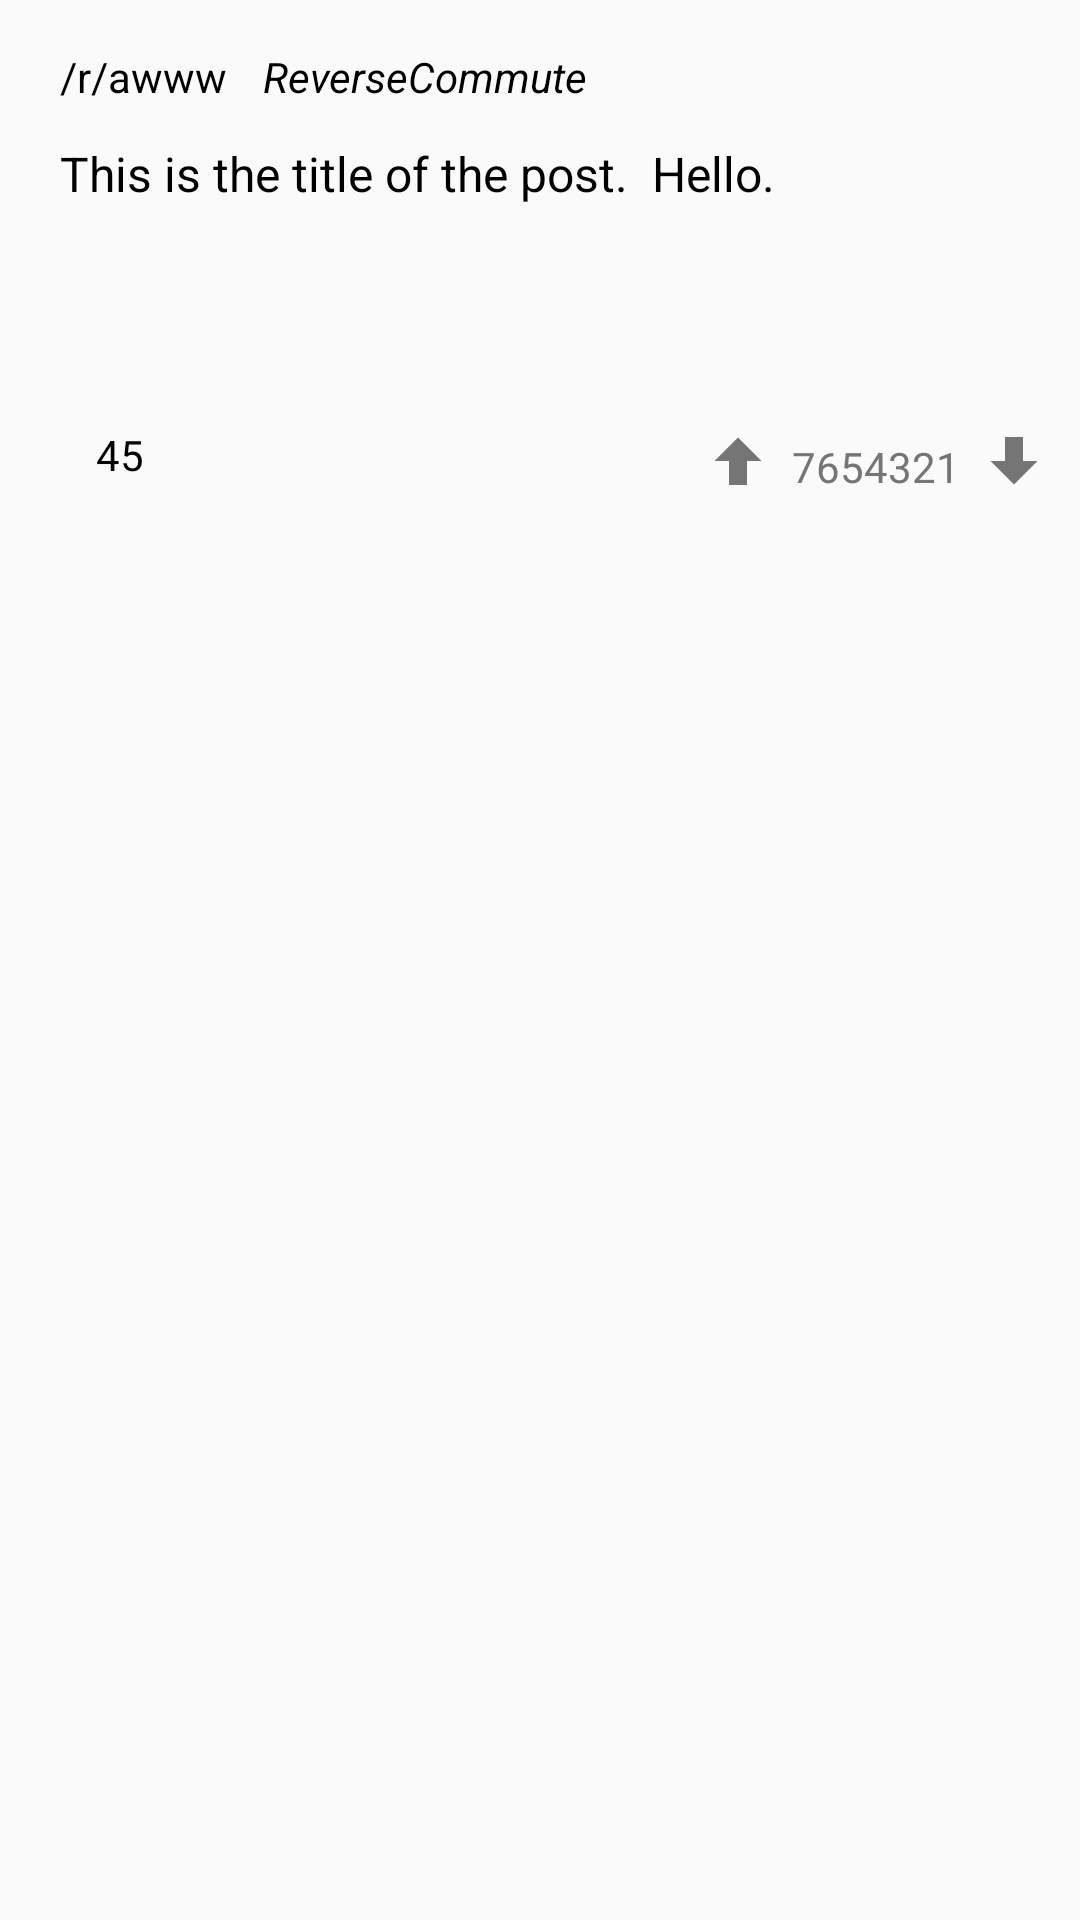

Named icons in this screenshot (1080 x 1920) and their bounding boxes, (x1, y1, x2, y2):
arrow down: (991, 437, 1037, 484)
arrow up: (715, 438, 761, 485)
